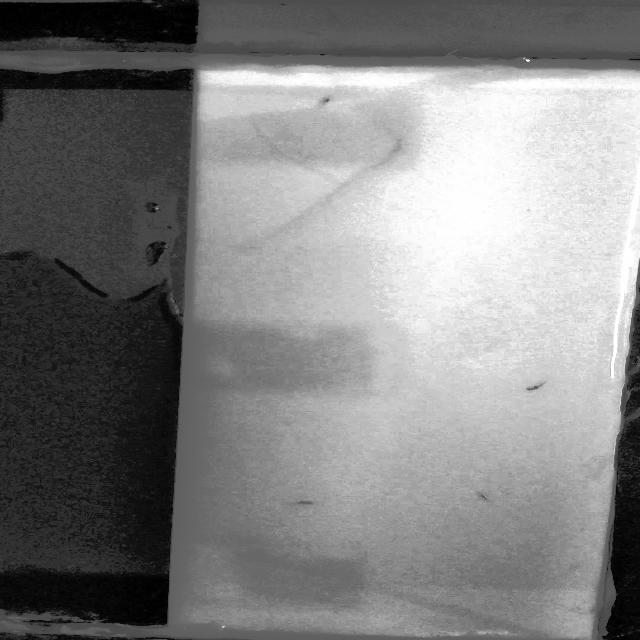shrimp: (312, 92, 342, 109), (286, 497, 324, 510), (520, 379, 547, 395), (472, 490, 496, 504)
